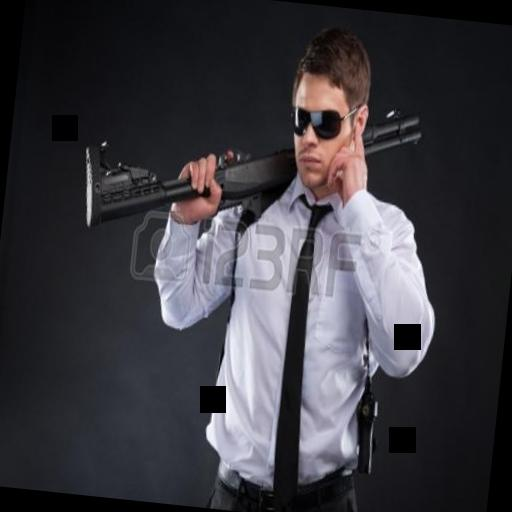Handgun: (338, 370, 392, 482)
